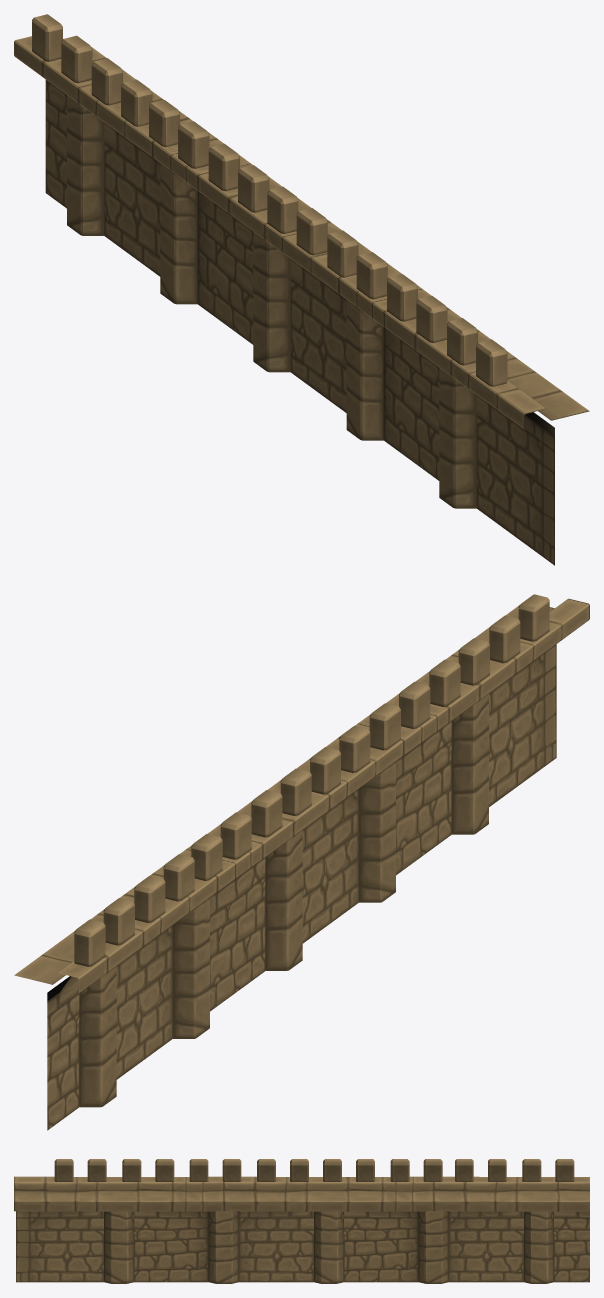
The model's file is wallLeft_model.glb.
3 views of the same model, one above another, from view 1: azimuth 30°, elevation 25°; view 2: azimuth 150°, elevation 25°; view 3: azimuth 270°, elevation 25° (orthographic). The views are drawn at different scales.
Visible parts, largest first — view 1: wallLeft_t2; view 2: wallLeft_t2; view 3: wallLeft_t2.
Part boxes in pixels (bbox=[...]): wallLeft_t2: bbox=[14, 14, 589, 565]; wallLeft_t2: bbox=[14, 594, 589, 1130]; wallLeft_t2: bbox=[14, 1159, 589, 1283].
Size of what is drawn, in the model's own units: 2.14 by 6.09 by 29.14.
1 material, 1 textured.
